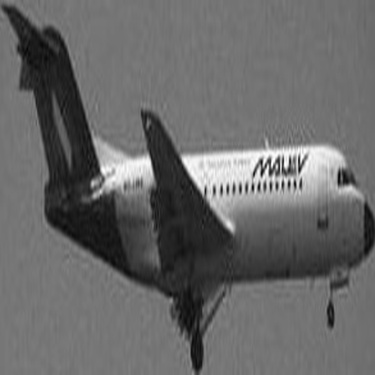airplane: (4, 1, 369, 370)
